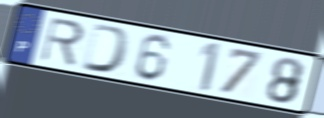1: (198, 41, 222, 94)
6: (133, 32, 172, 84)
7: (218, 46, 264, 97)
8: (265, 56, 306, 105)
D: (80, 21, 133, 76)
R: (38, 16, 87, 68)
